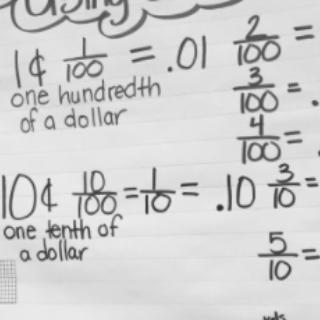.: (215, 201, 225, 212), (166, 64, 174, 75)
0: (173, 36, 198, 70), (234, 175, 257, 209), (273, 259, 293, 282), (262, 140, 281, 163), (277, 186, 296, 208), (86, 58, 105, 79), (247, 140, 263, 164), (71, 61, 86, 80)
1: (11, 48, 23, 89), (224, 172, 235, 213), (200, 33, 208, 70), (266, 258, 274, 282), (79, 34, 88, 55), (238, 91, 246, 114), (241, 138, 247, 166), (271, 186, 278, 209), (64, 62, 71, 83)
2: (244, 12, 267, 40)
3: (276, 161, 295, 183), (247, 64, 264, 86)
4: (249, 113, 267, 136)
5: (267, 229, 288, 254)
